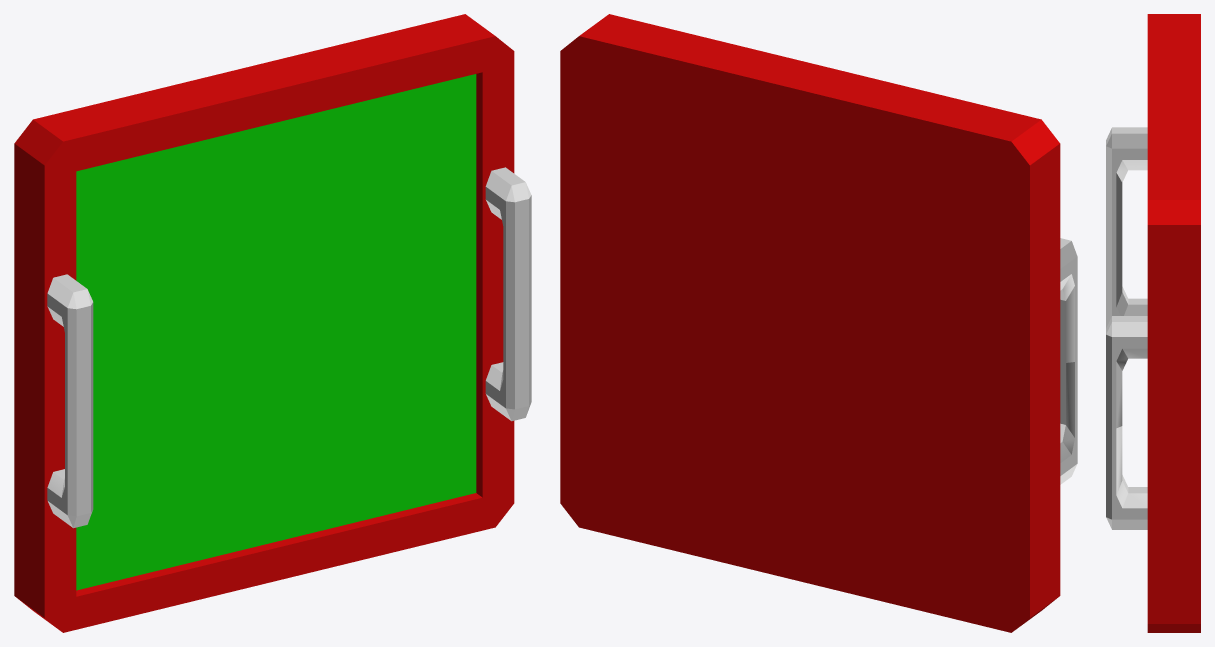
File: display.fbx
The picture shows the model from 3 angles, left to right: view 1: azimuth 30°, elevation 25°; view 2: azimuth 150°, elevation 25°; view 3: azimuth 270°, elevation 25°; orthographic projection. The views are drawn at different scales.
Visible parts, largest first — view 1: Object001, Object003; view 2: Object001, Object003; view 3: Object001, Object003.
Part boxes in pixels (x1,y1,x2,y2): Object001: (14,14,514,632); Object003: (47,167,531,528); Object001: (560,14,1060,632); Object003: (1060,238,1077,484); Object001: (1147,14,1200,632); Object003: (1106,127,1147,529).
Size of the model in its own units: 8.97 by 8.97 by 1.78.
